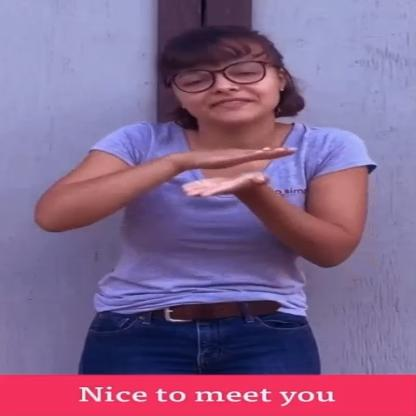NiceToMeetYou: (36, 26, 375, 364)
